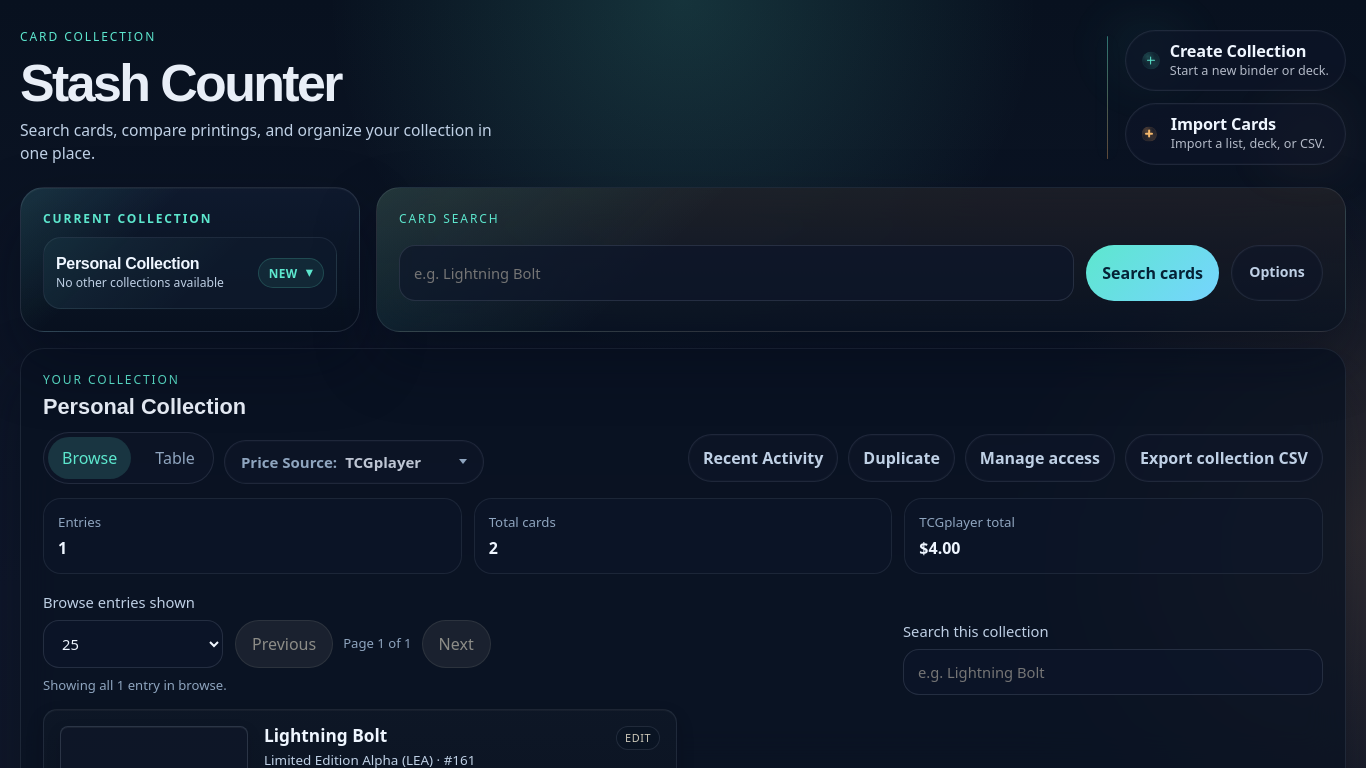
it: App › shows an error notice when collection CSV export fails
Click the button "Export collection CSV": (1224, 458) [1125,434,1323,482]
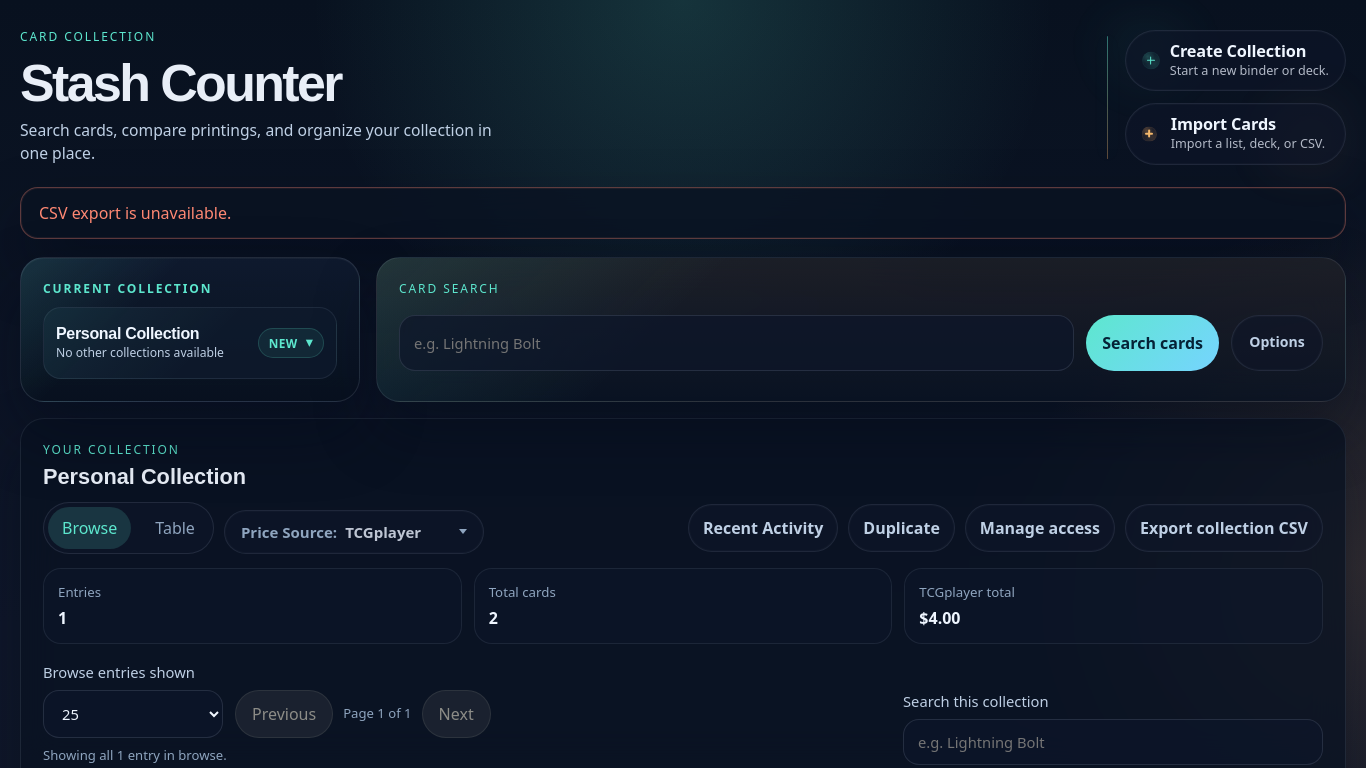
Now the message reads "CSV export is unavailable.", box [39,202,231,224]
